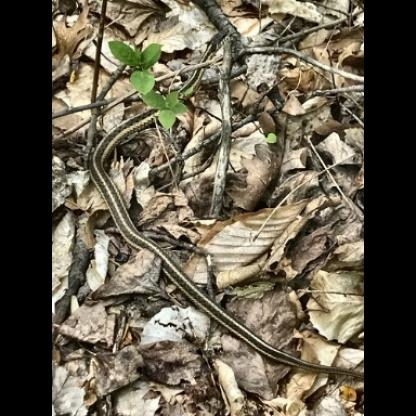Snake: (86, 19, 238, 152), (92, 172, 210, 298)
